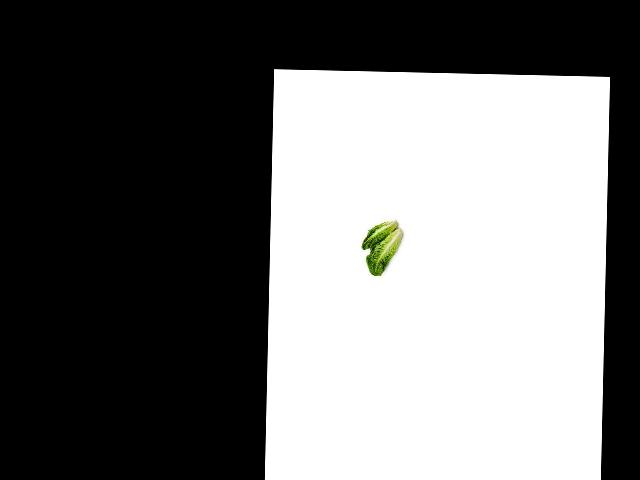lettuce: (364, 231, 405, 277)
